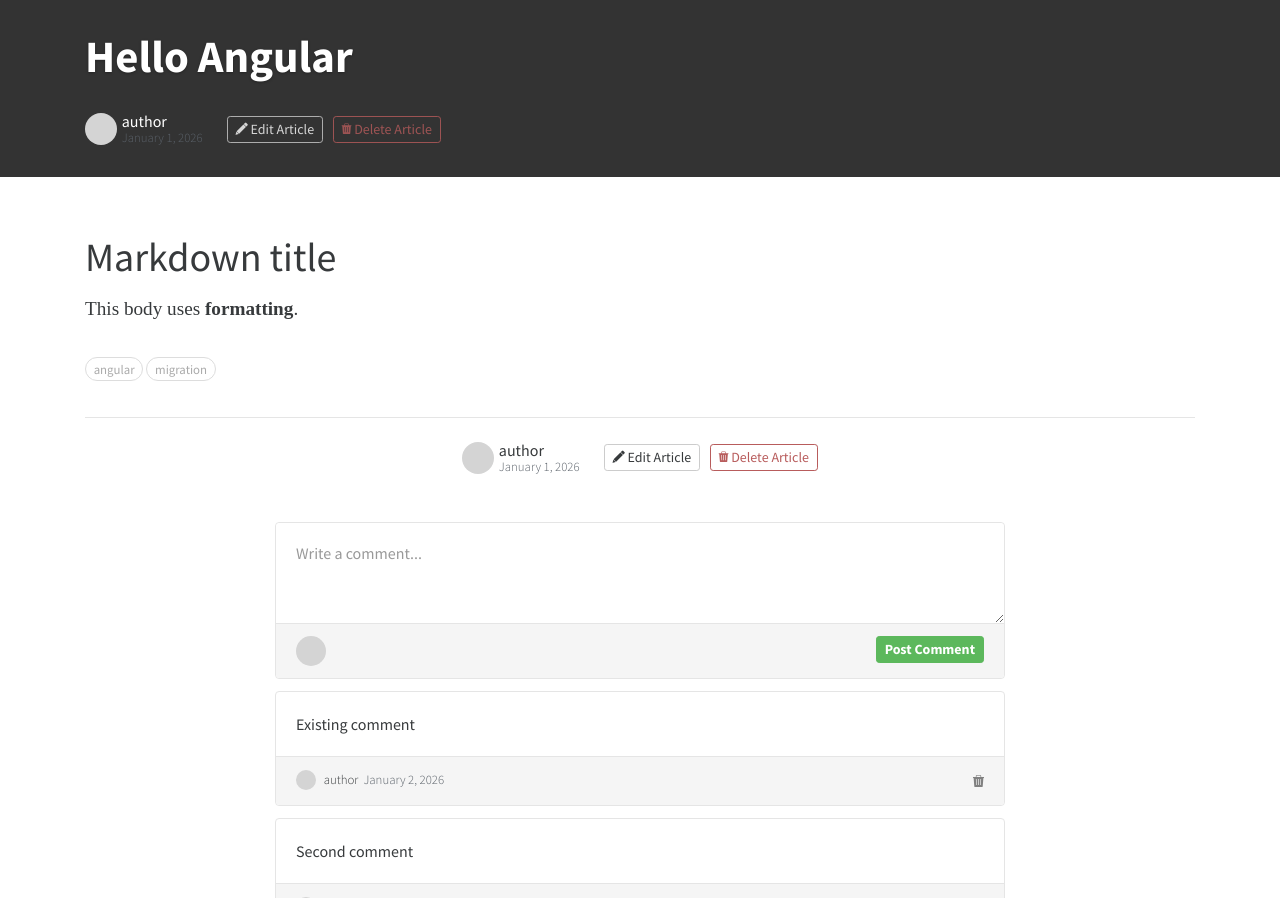
Test case: ArticleComponent › deletes only the targeted comment, leaving others intact
This screenshot has width=1280, height=898.
Click the icon in the row of "January 2, 2026". click: (978,781)
box: [973, 771, 984, 791]
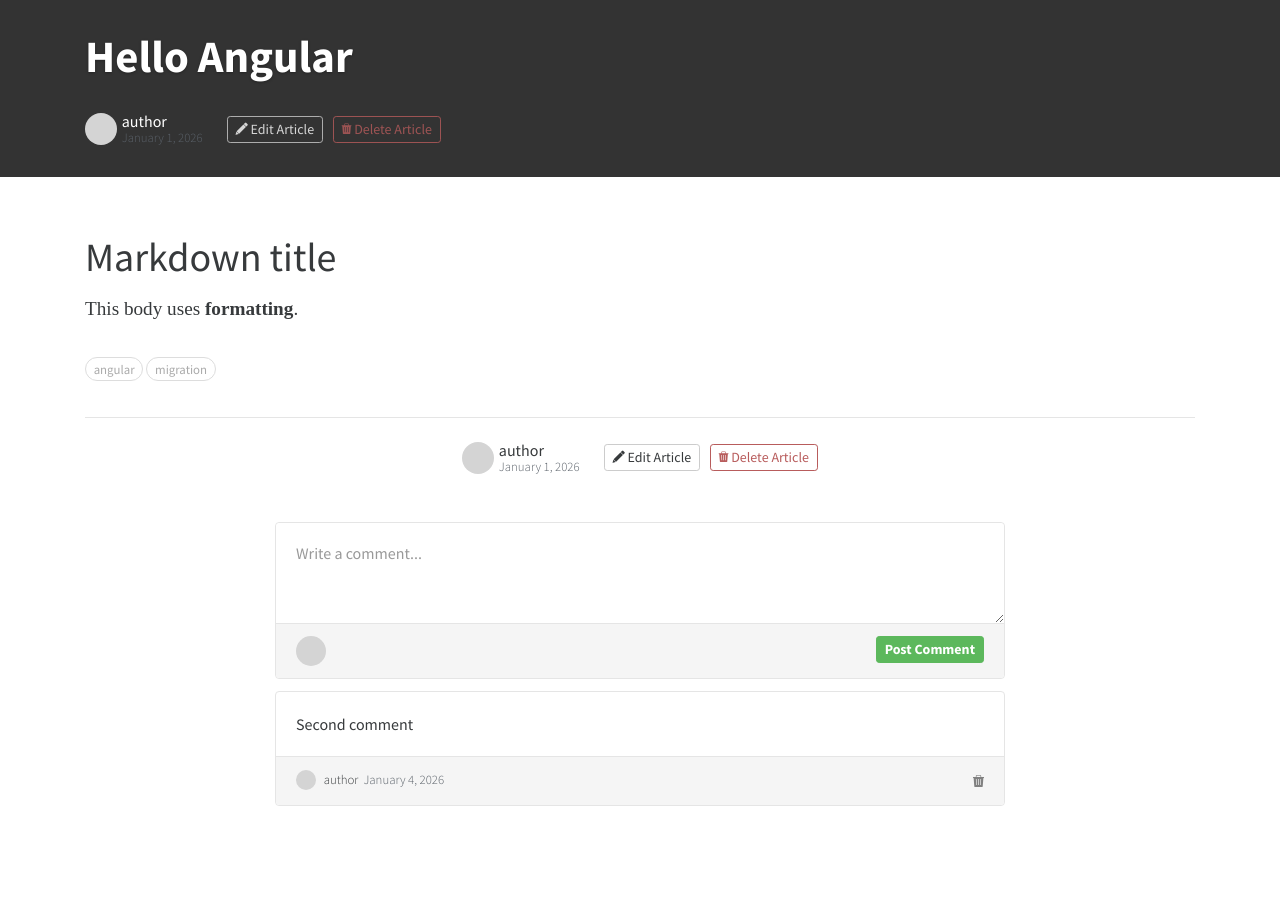
Expected: the text "Second comment" is shown, [296, 714, 413, 734]
Now the text "Existing comment" is gone
